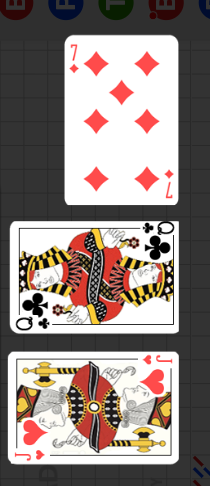7D: (163, 167, 176, 200), (68, 43, 80, 75)
JH: (141, 353, 174, 366)
QC: (132, 223, 179, 267), (12, 290, 58, 334)
